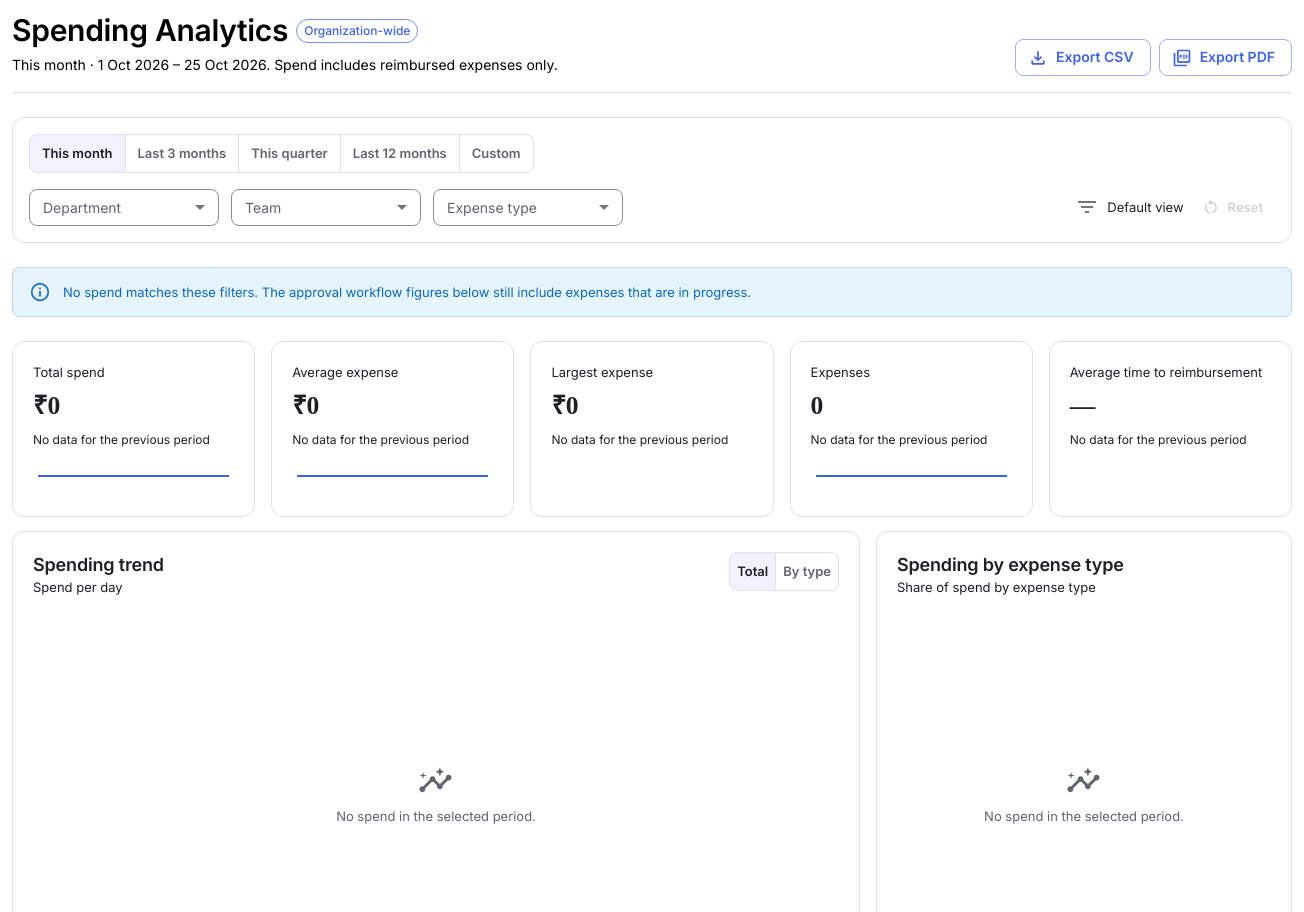
Test case: AnalyticsPage PDF export › explains when the PDF could not be created
Click the button "Export PDF" at (1225, 58), box left=1159, top=39, right=1292, bottom=76
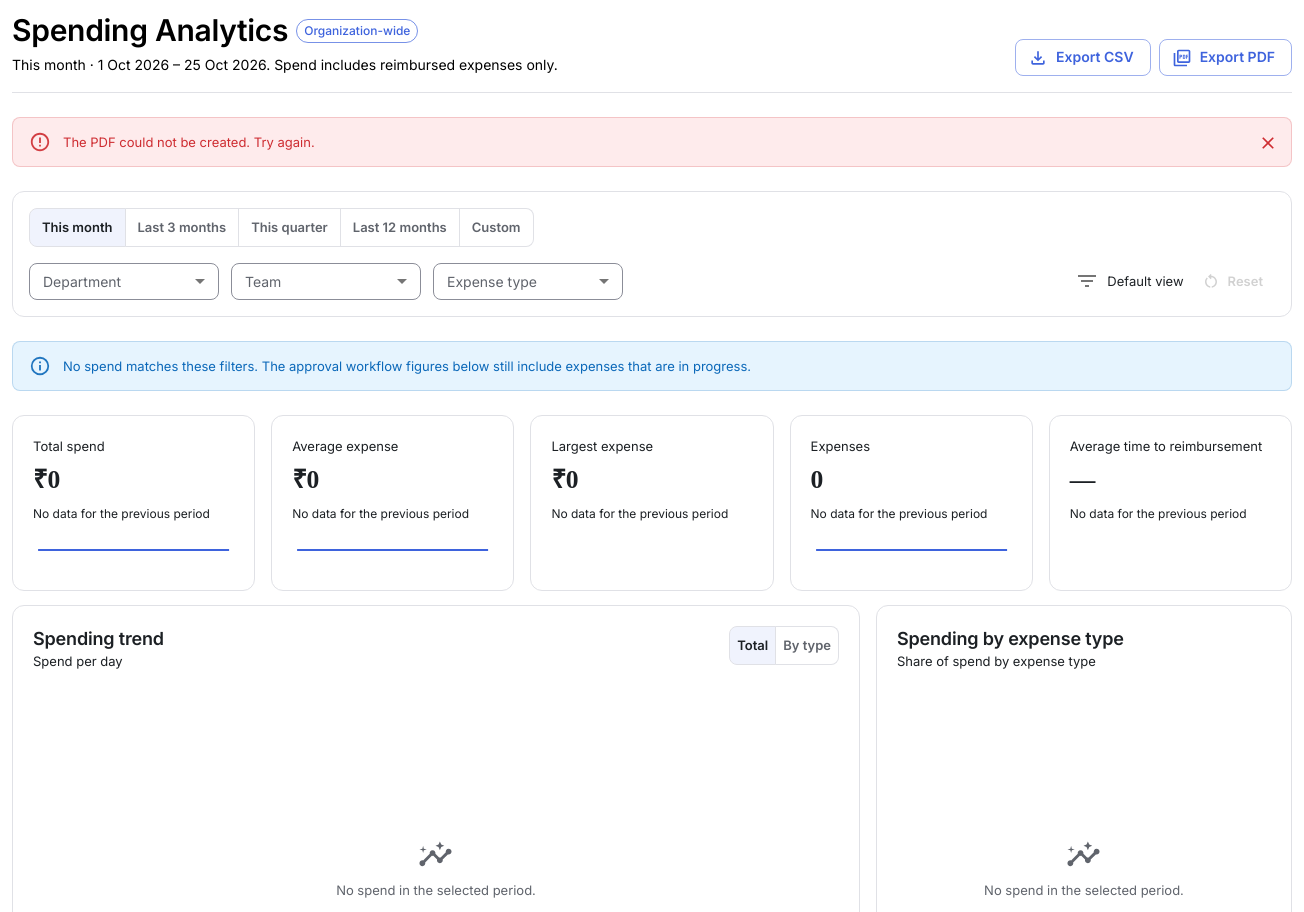
Now the text "The PDF could not be created. Try again." is shown, box left=63, top=134, right=315, bottom=150
